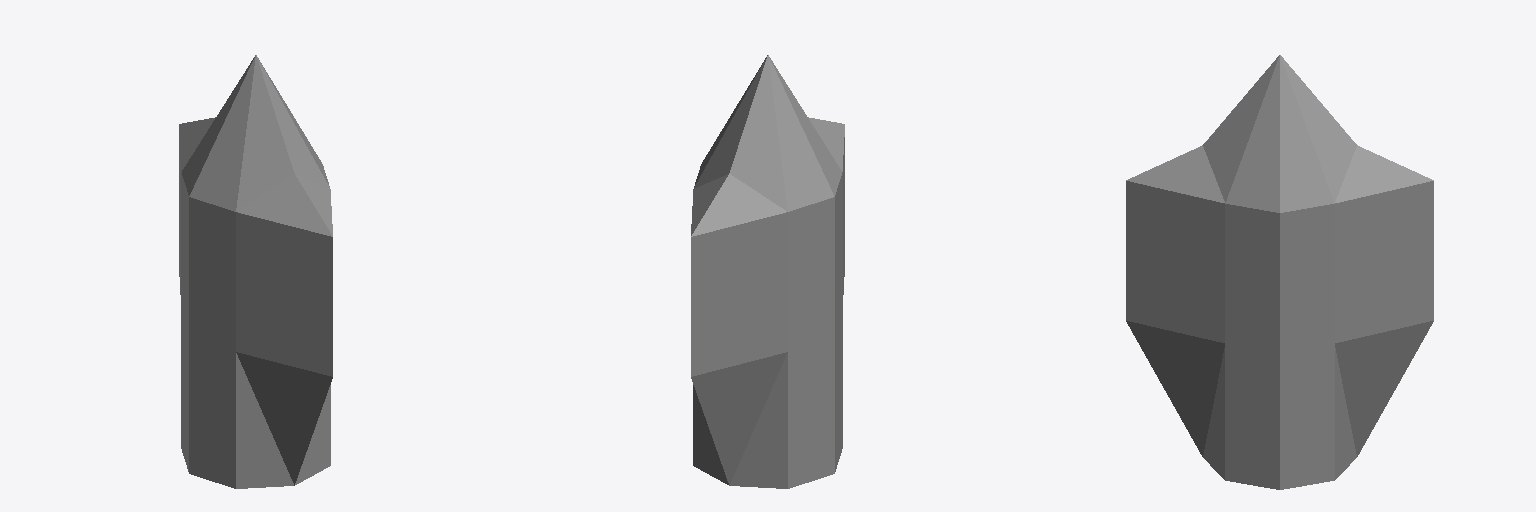
Rendered from arrow.obj.
3 views of the same model, side by side, from view 1: azimuth 30°, elevation 25°; view 2: azimuth 150°, elevation 25°; view 3: azimuth 270°, elevation 25° (orthographic).
Visible parts, largest first — view 1: Cube; view 2: Cube; view 3: Cube.
Part boxes in pixels (x1,y1,x2,y2): Cube: (179, 55, 332, 488); Cube: (691, 55, 844, 488); Cube: (1126, 55, 1433, 489).
Size of the model in its own units: 2 by 5.76 by 4.